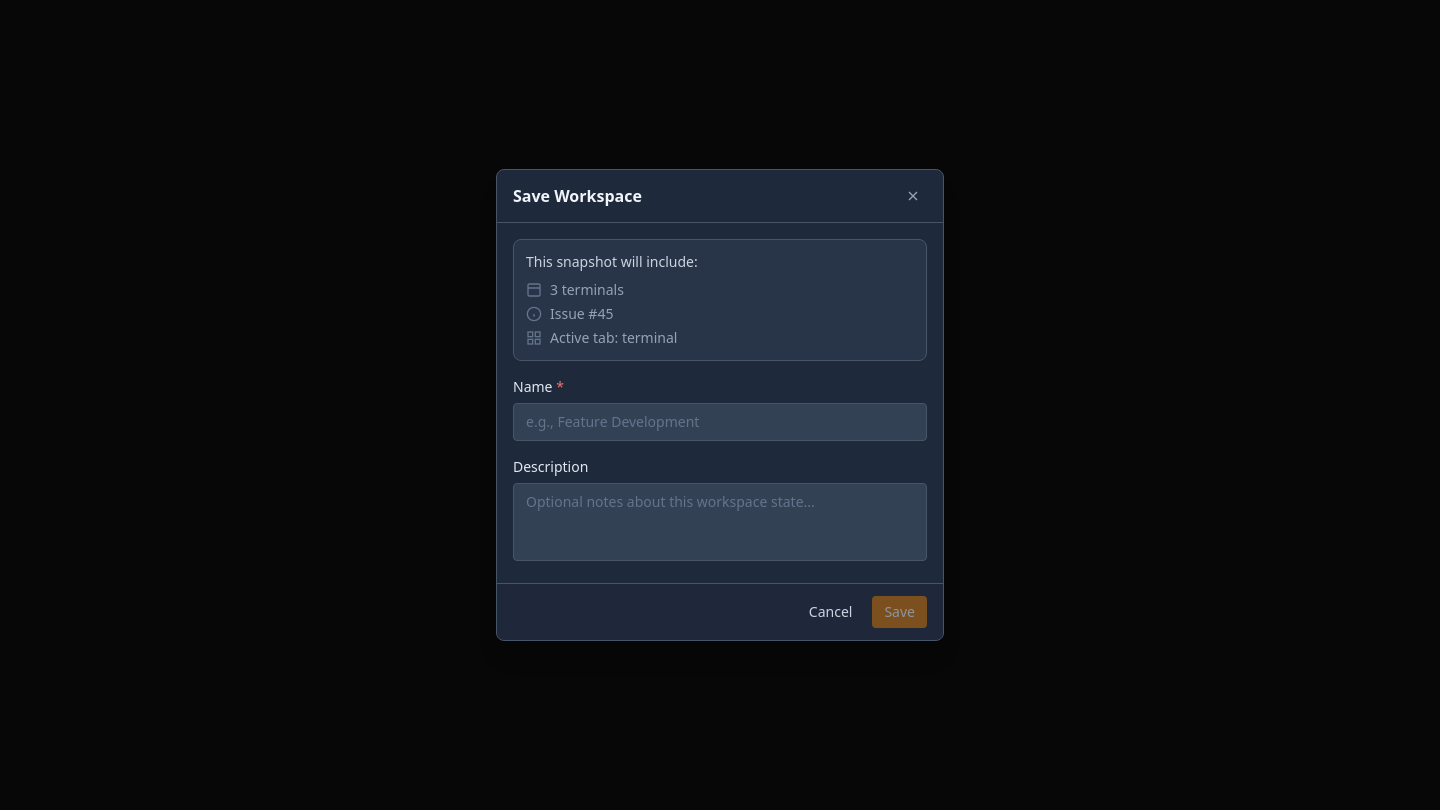
it: SaveWorkspaceDialog › Description textarea › should update description state when typing
This screenshot has width=1440, height=810.
Click the text box labelled "Description". click: (720, 522)
box: [513, 483, 927, 561]
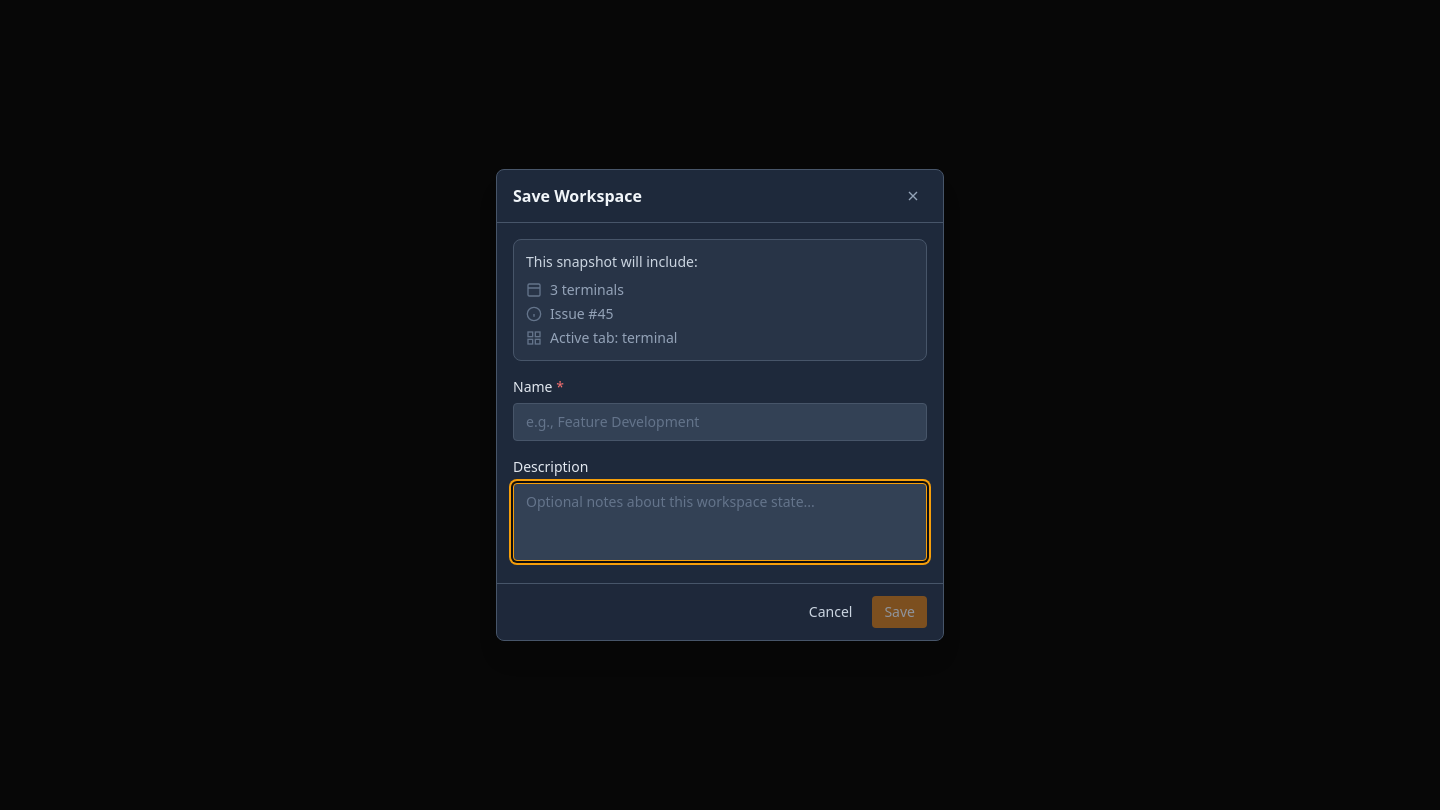
Type keys "Working on feature X"
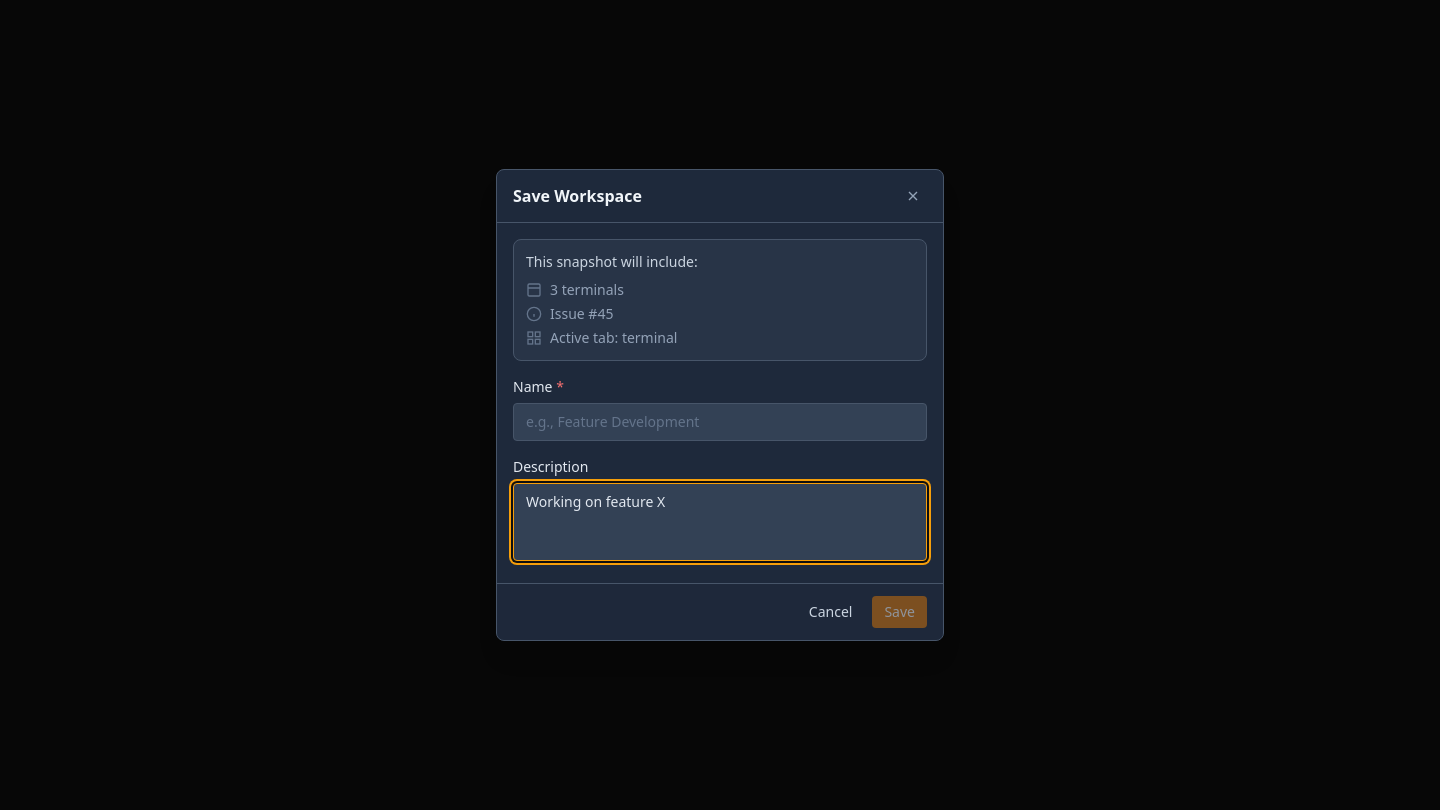
Expected: the text box labelled "Description" holds "Working on feature X", [513, 483, 927, 561]
